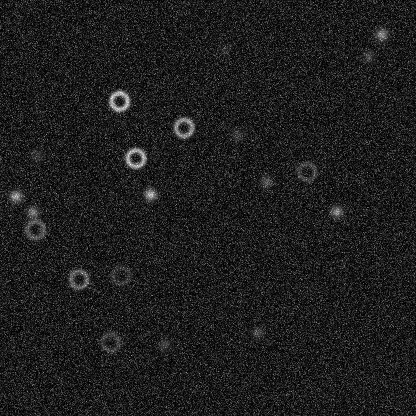Ring: (171, 115, 195, 139), (66, 267, 90, 291), (123, 145, 147, 169), (107, 88, 131, 112), (98, 329, 122, 353), (108, 263, 132, 287), (23, 217, 47, 241), (294, 159, 318, 183)
Spot: (360, 48, 376, 64), (7, 188, 23, 204), (216, 41, 232, 57), (328, 203, 344, 219), (373, 26, 389, 42), (249, 324, 265, 340), (29, 146, 45, 162), (229, 126, 245, 142), (156, 336, 172, 352), (257, 173, 273, 189), (24, 204, 40, 220), (142, 186, 158, 202)
